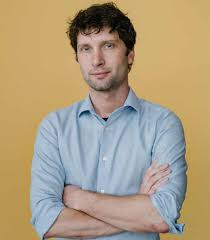s.white: (102, 50, 125, 76)
